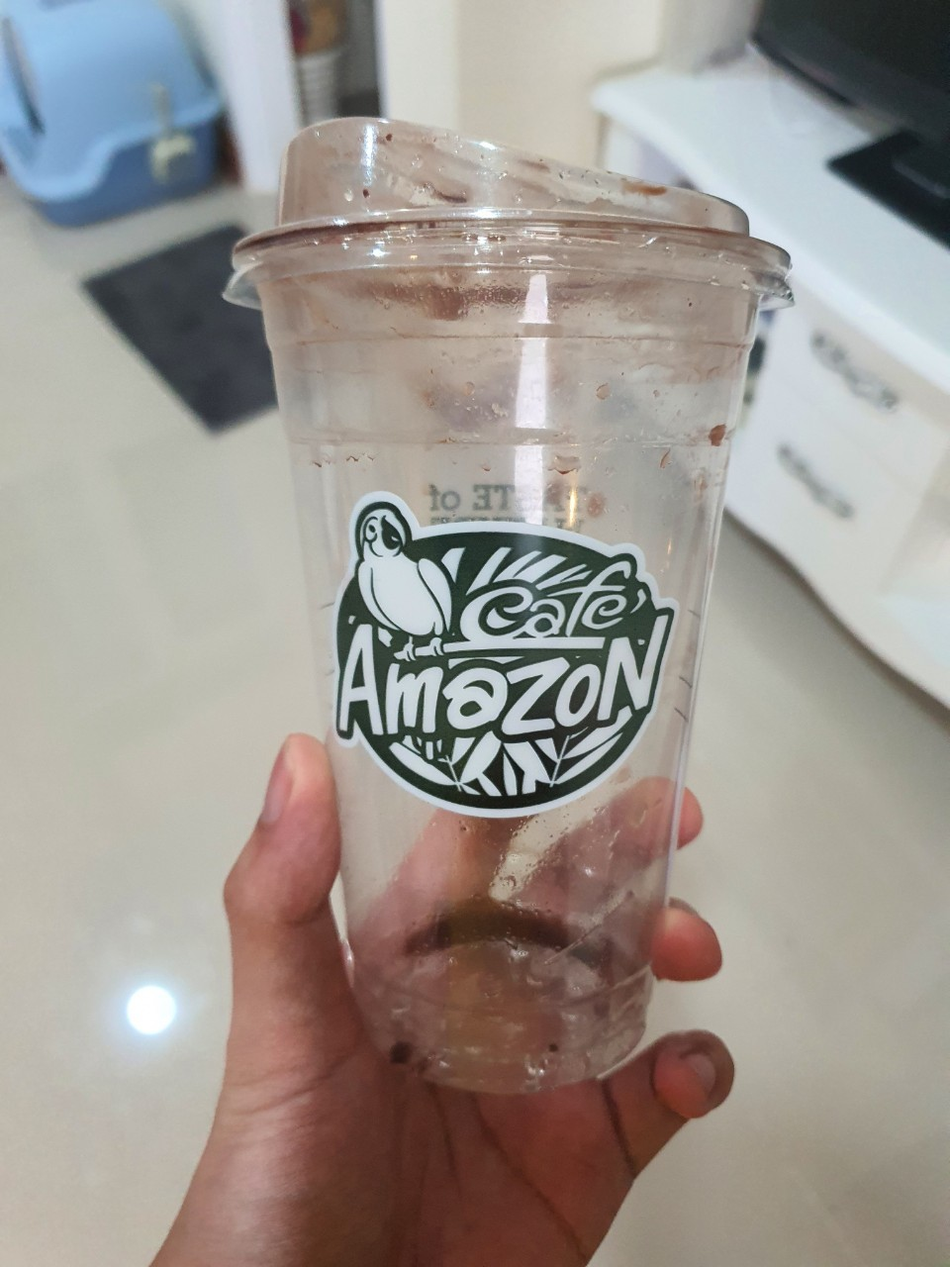plastic: (192, 96, 826, 1104)
